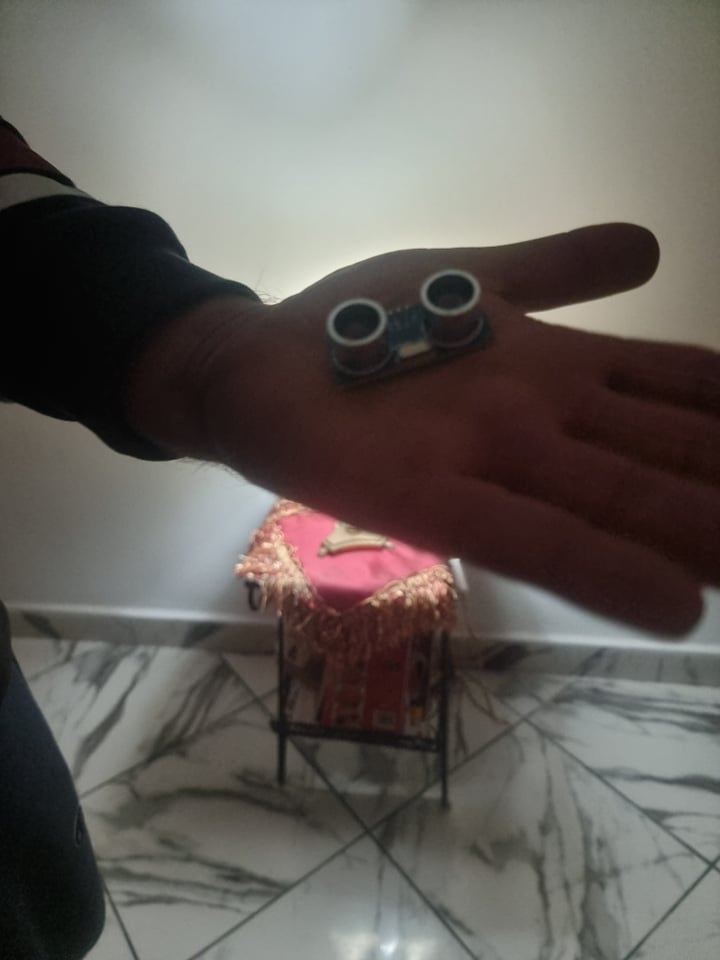SENSOR: (321, 262, 501, 399)
